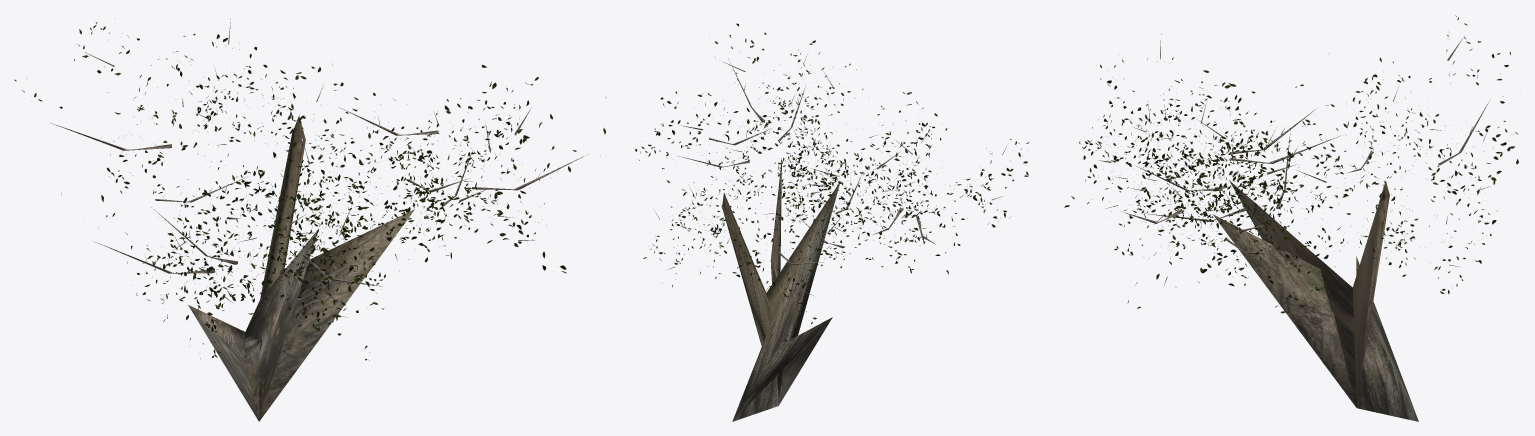
Rendered from island_tree_02_full.glb.
3 views of the same model, side by side, from view 1: azimuth 30°, elevation 25°; view 2: azimuth 150°, elevation 25°; view 3: azimuth 270°, elevation 25° (orthographic). The views are drawn at different scales.
Parts seen in each view (by area): view 1: island_tree_02_full; view 2: island_tree_02_full; view 3: island_tree_02_full.
Part boxes in pixels (<box>): island_tree_02_full: <box>14,19,606,421</box>; island_tree_02_full: <box>635,23,1029,421</box>; island_tree_02_full: <box>1064,15,1518,421</box>.
Bounding box in the file's own units: 3.89 × 3.32 × 3.99.
Materials: 3 (3 with a texture image).
